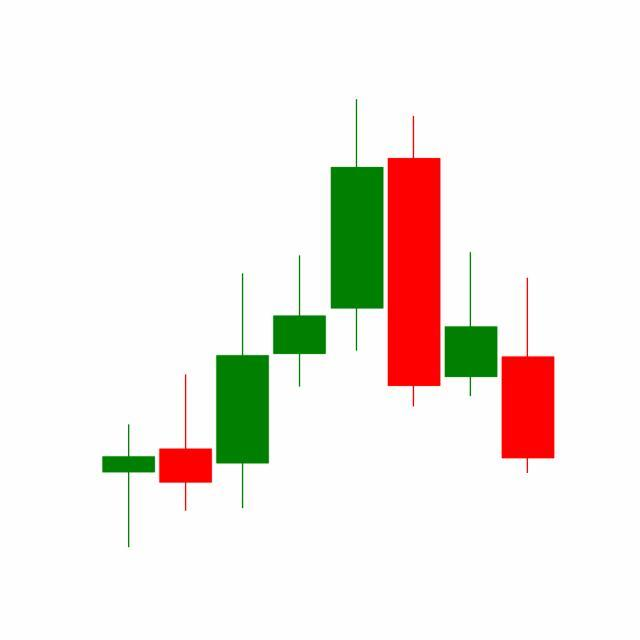Hikkake Pattern: (270, 99, 555, 478)
